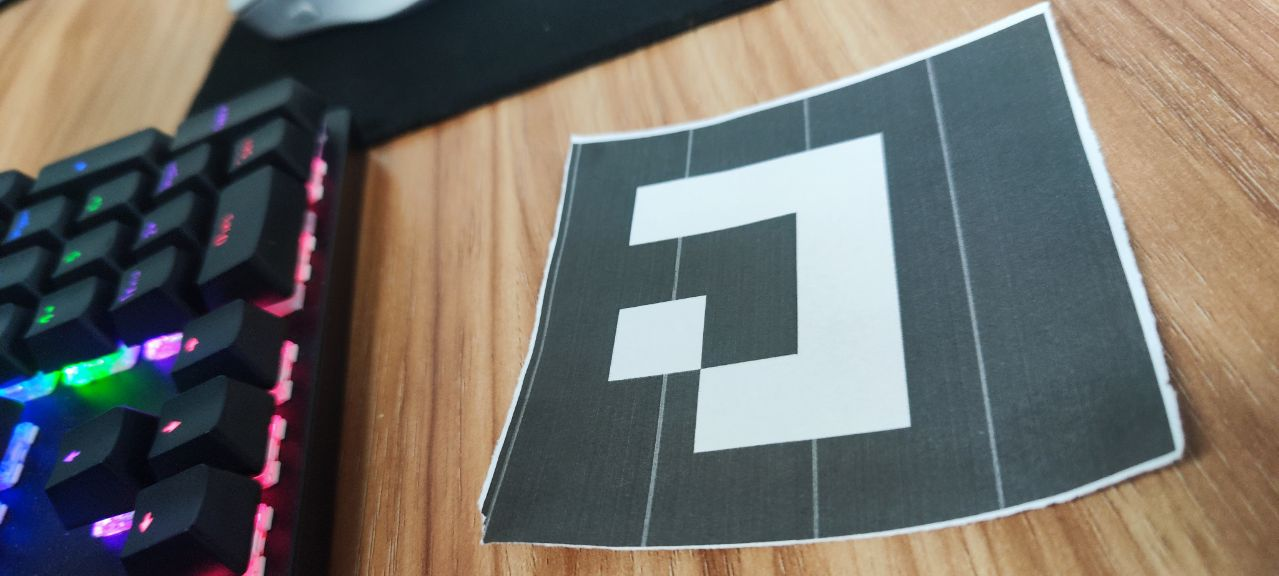mark1: (617, 130, 920, 461)
